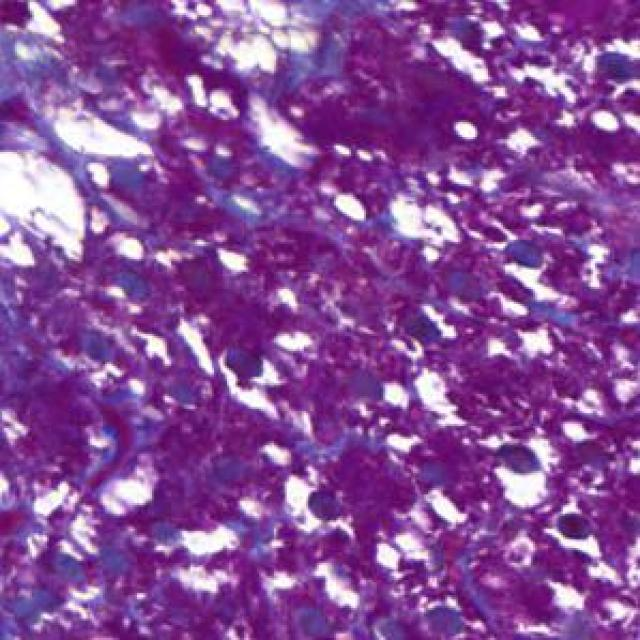ballooning: (176, 7, 330, 82)
